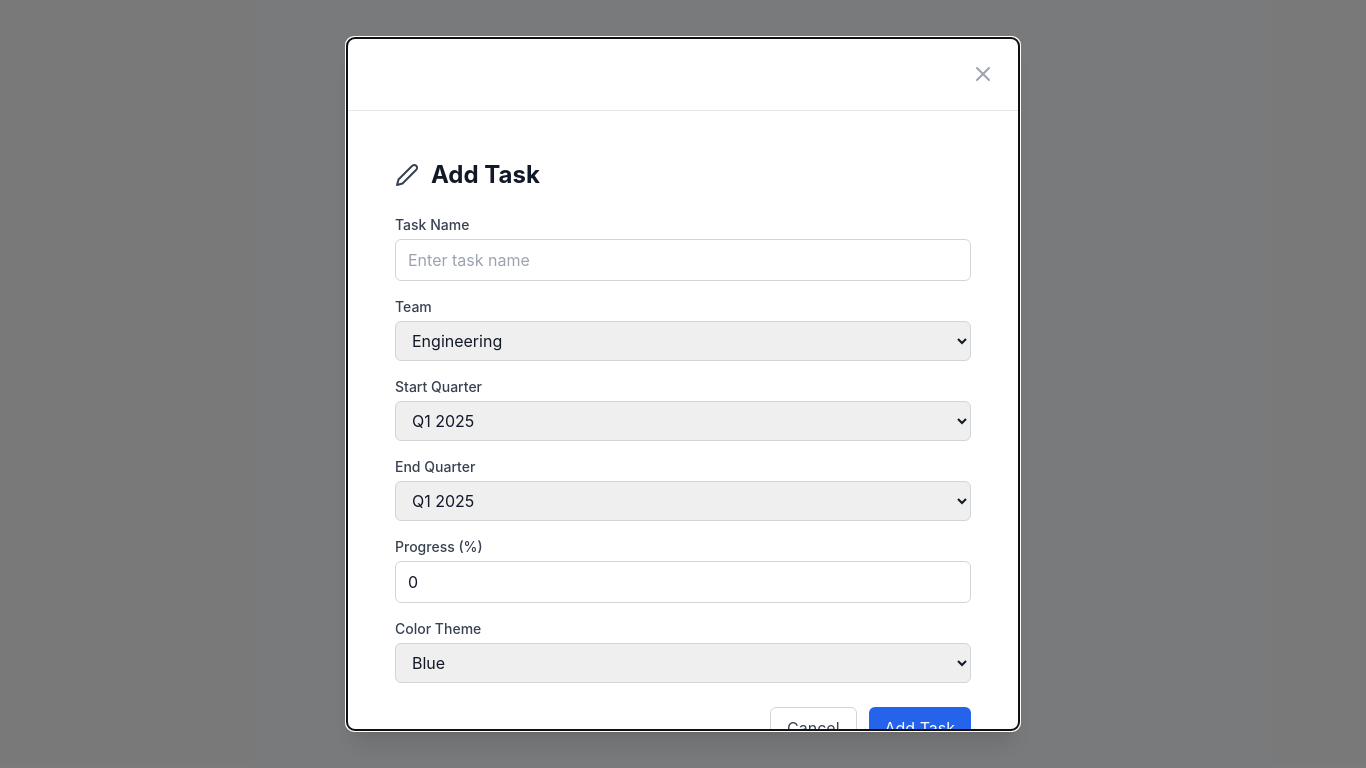
Test: TaskModal › Validation › shows error when task name is empty
Click the button "Add Task". click: (920,728)
box: [868,707,971,749]
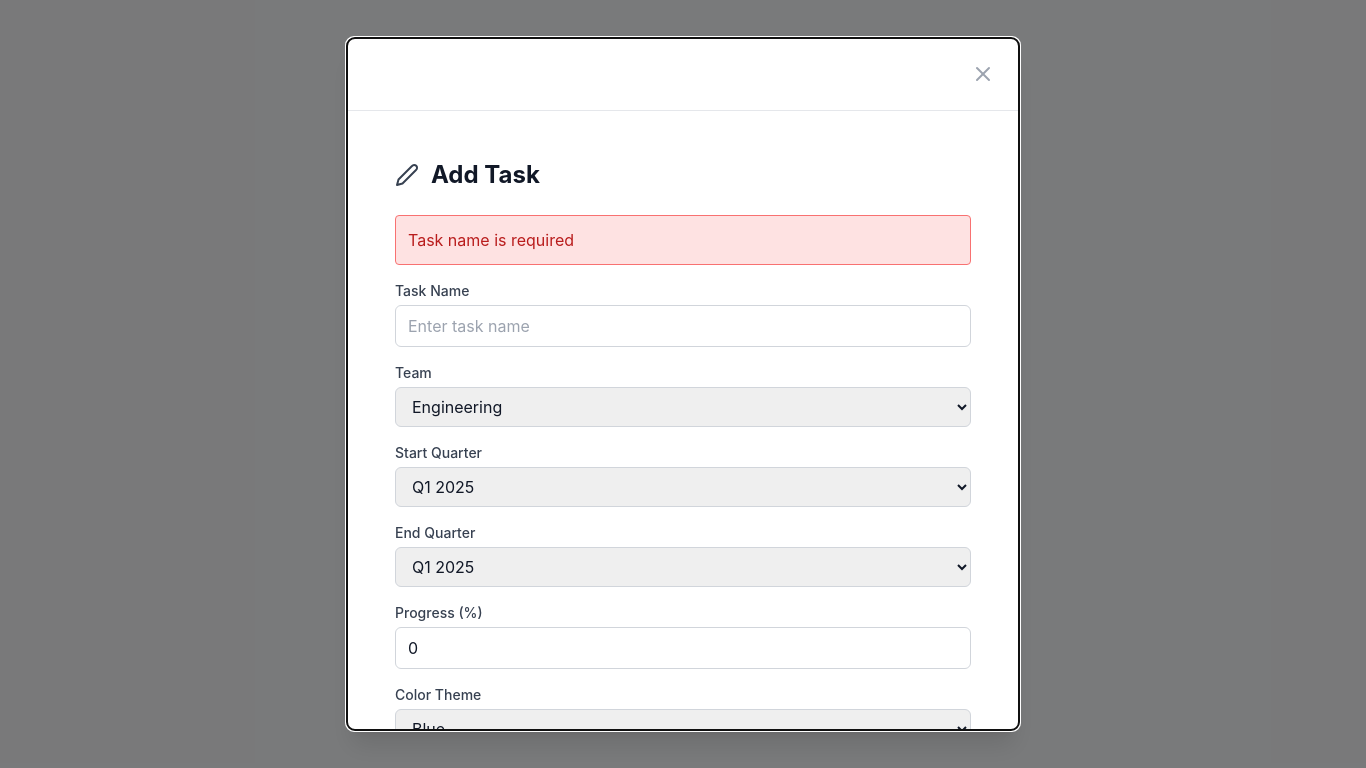
expect the text "Task name is required" is shown: met, box [395,215,971,265]
